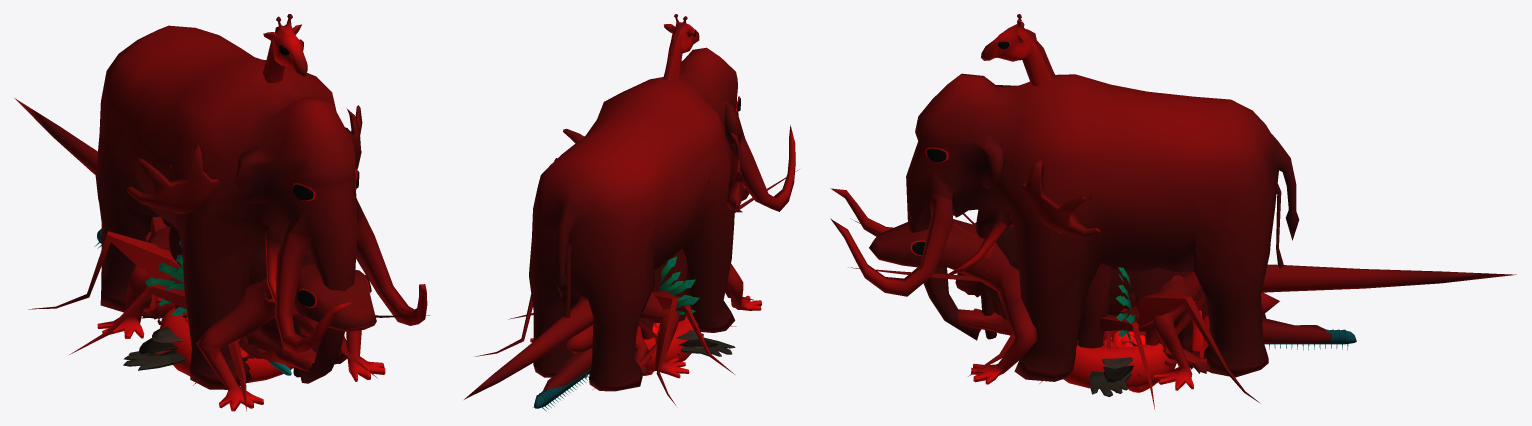
Rendered from EverythingLibrary_Animals_001 1.fbx.
3 renders of one model, left to right at view 1: azimuth 30°, elevation 25°; view 2: azimuth 150°, elevation 25°; view 3: azimuth 270°, elevation 25°, orthographic. The views are drawn at different scales.
Parts seen in each view (by area): view 1: base (×10), RedBloodCell, DblSided; view 2: base (×11), DblSided, RedBloodCell; view 3: base (×10), RedBloodCell.
Boxes of the visible parts, bbox=[...] form: base (×10): bbox=[14, 14, 429, 411]; RedBloodCell: bbox=[160, 307, 293, 382]; DblSided: bbox=[145, 240, 187, 315]; base (×11): bbox=[464, 14, 799, 411]; DblSided: bbox=[659, 256, 699, 315]; RedBloodCell: bbox=[643, 315, 698, 371]; base (×10): bbox=[830, 14, 1516, 409]; RedBloodCell: bbox=[1063, 343, 1176, 388].
Bounding box in the file's own units: 417 × 558 × 940.
